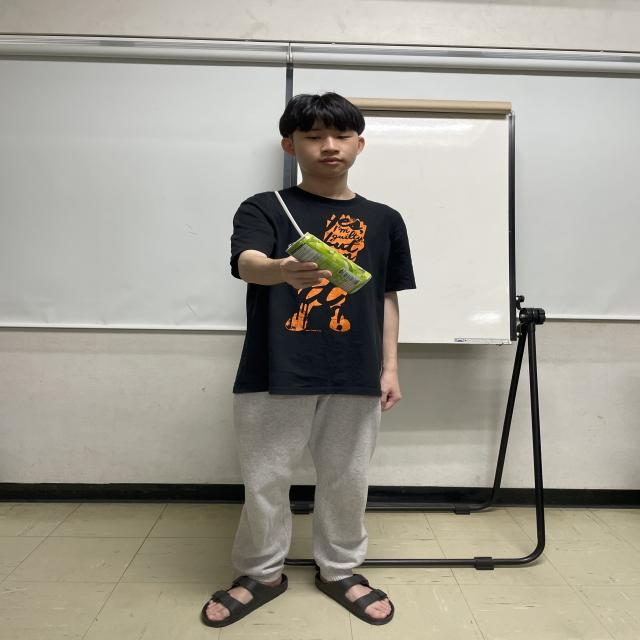can: (286, 232, 372, 295)
